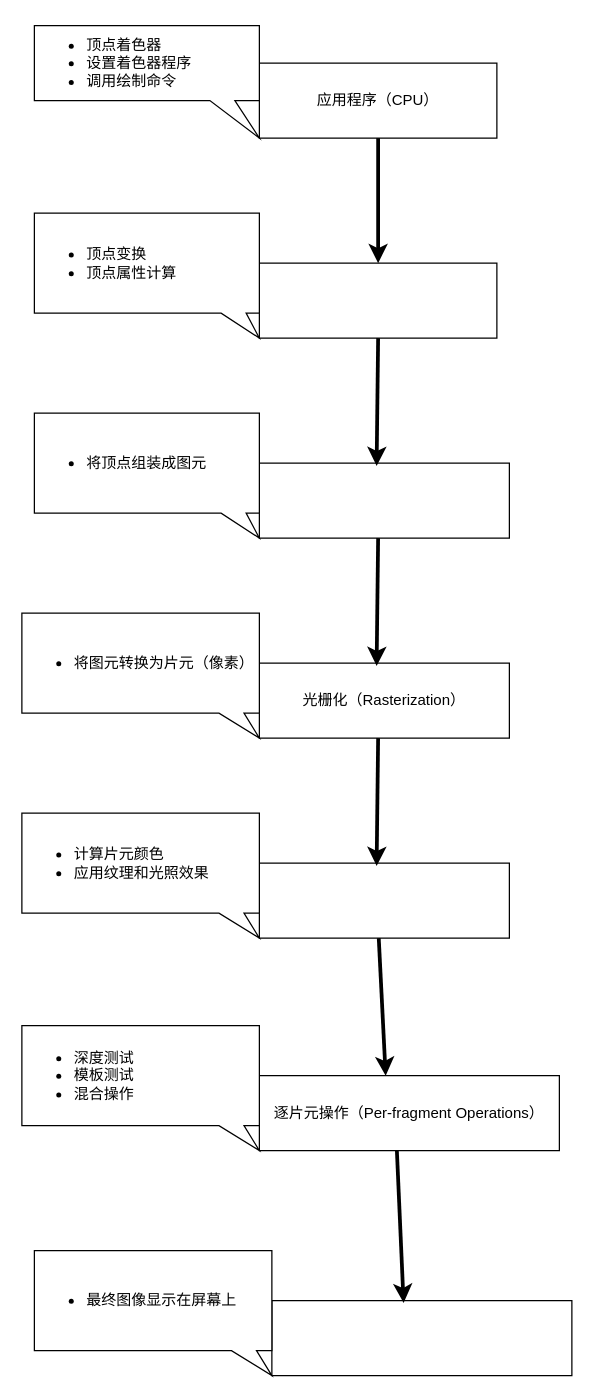
Some shapes in this 594 by 1398 pixel diagram are drawn without their labels. Here are the shapes that lost their labels. From the top down, the centre of each, then its label:
At (377,300): "顶点着色器（Vertex Shader）".
At (383,500): "图元装配（Primitive Assembly）".
At (383,900): "片元着色器（Fragment Shader）".
At (421,1337): "帧缓冲区（Frame Buffer）".
